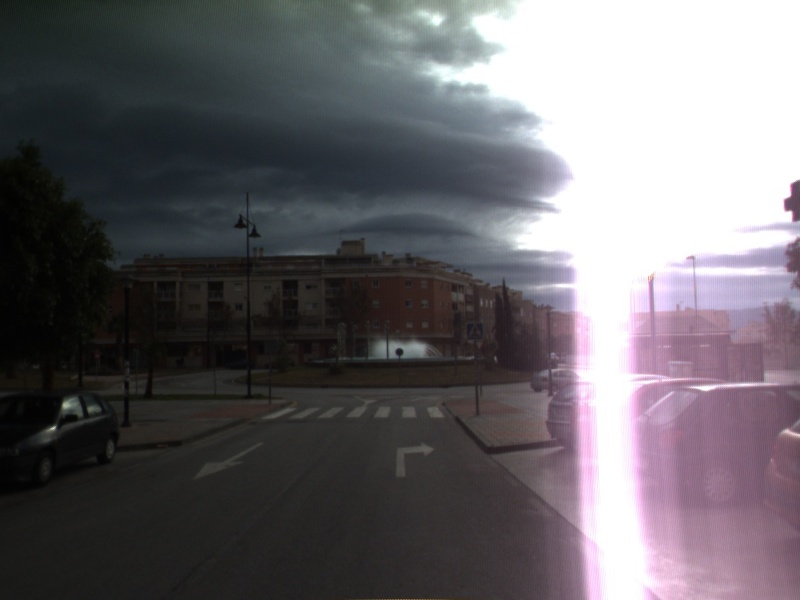RIGHT: (394, 440, 436, 479)
